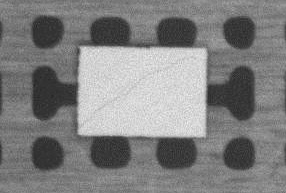DIE_CRACK: (79, 59, 188, 128)
